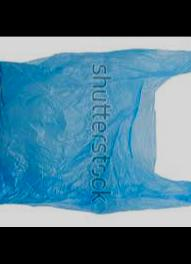Plastic: (0, 44, 190, 217)
